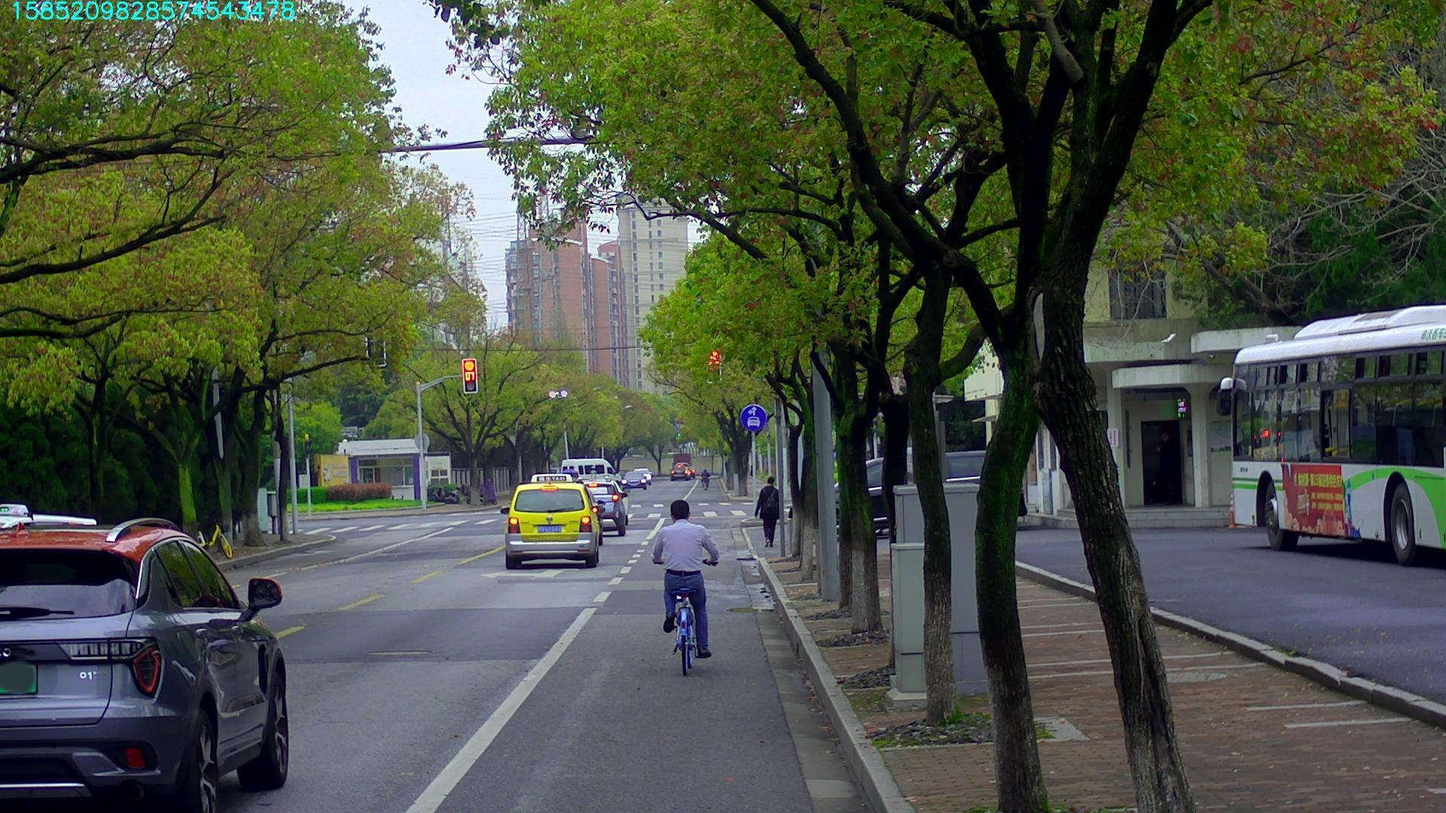red: (462, 358, 476, 391), (707, 350, 721, 382)
